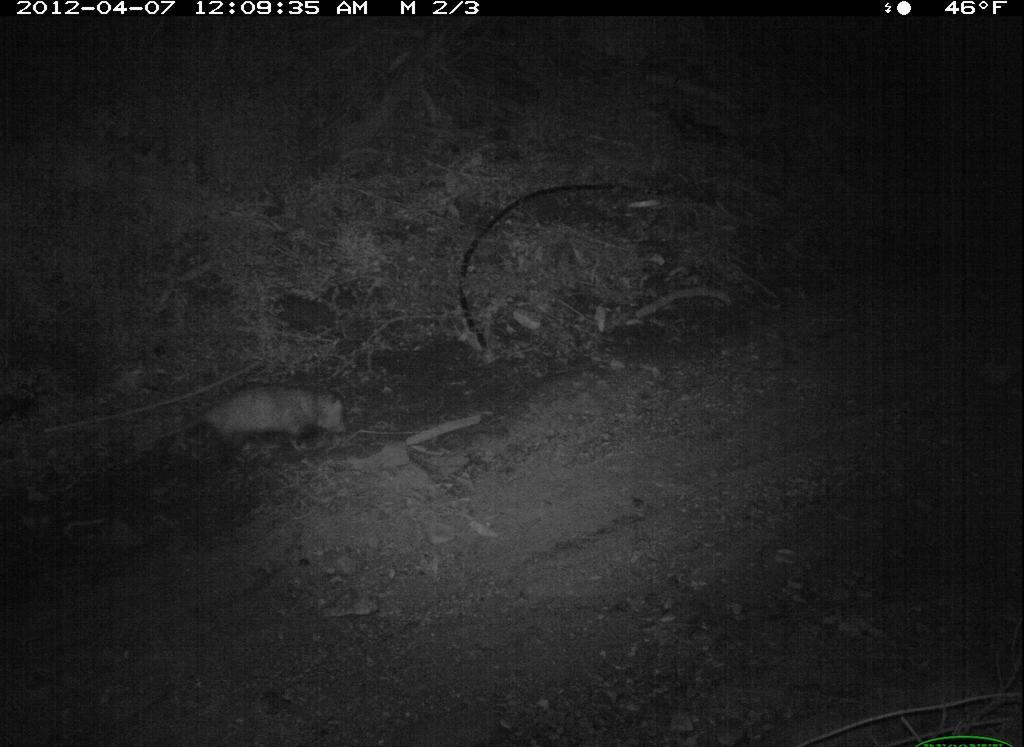opossum: (177, 376, 385, 465)
